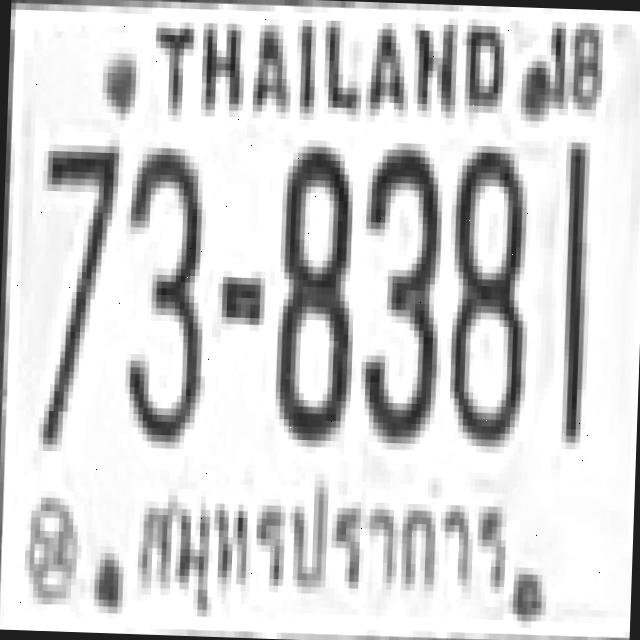3: (116, 140, 206, 442), (354, 141, 439, 437)
7: (34, 137, 120, 433), (36, 140, 120, 382), (37, 136, 119, 340)
8: (442, 138, 528, 440), (268, 138, 354, 434)
SamutPrakan: (119, 469, 525, 629)
